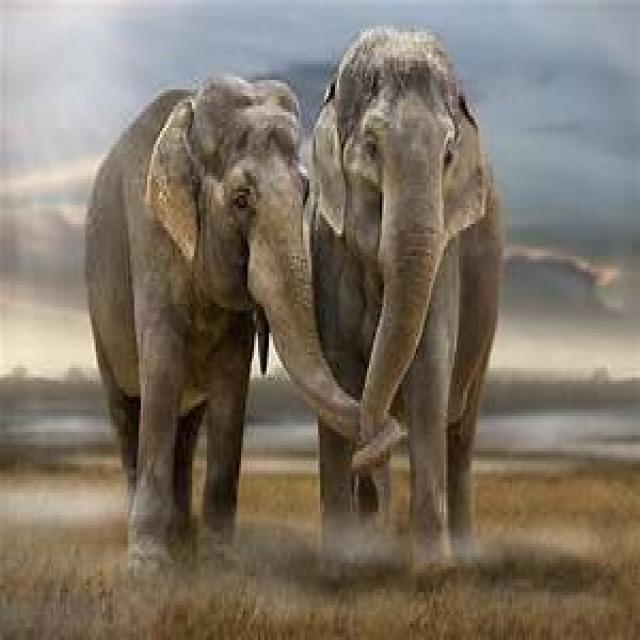elephant: (85, 74, 363, 582), (309, 26, 506, 570)
